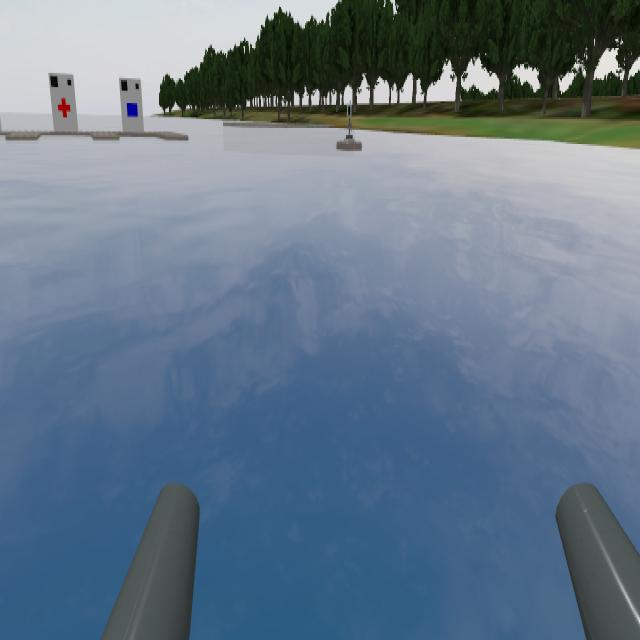black_pole: (342, 98, 358, 123)
